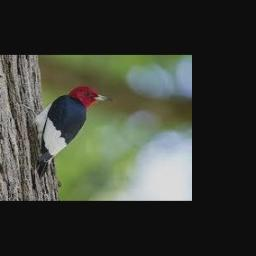Woodpecker: (23, 86, 113, 177)
